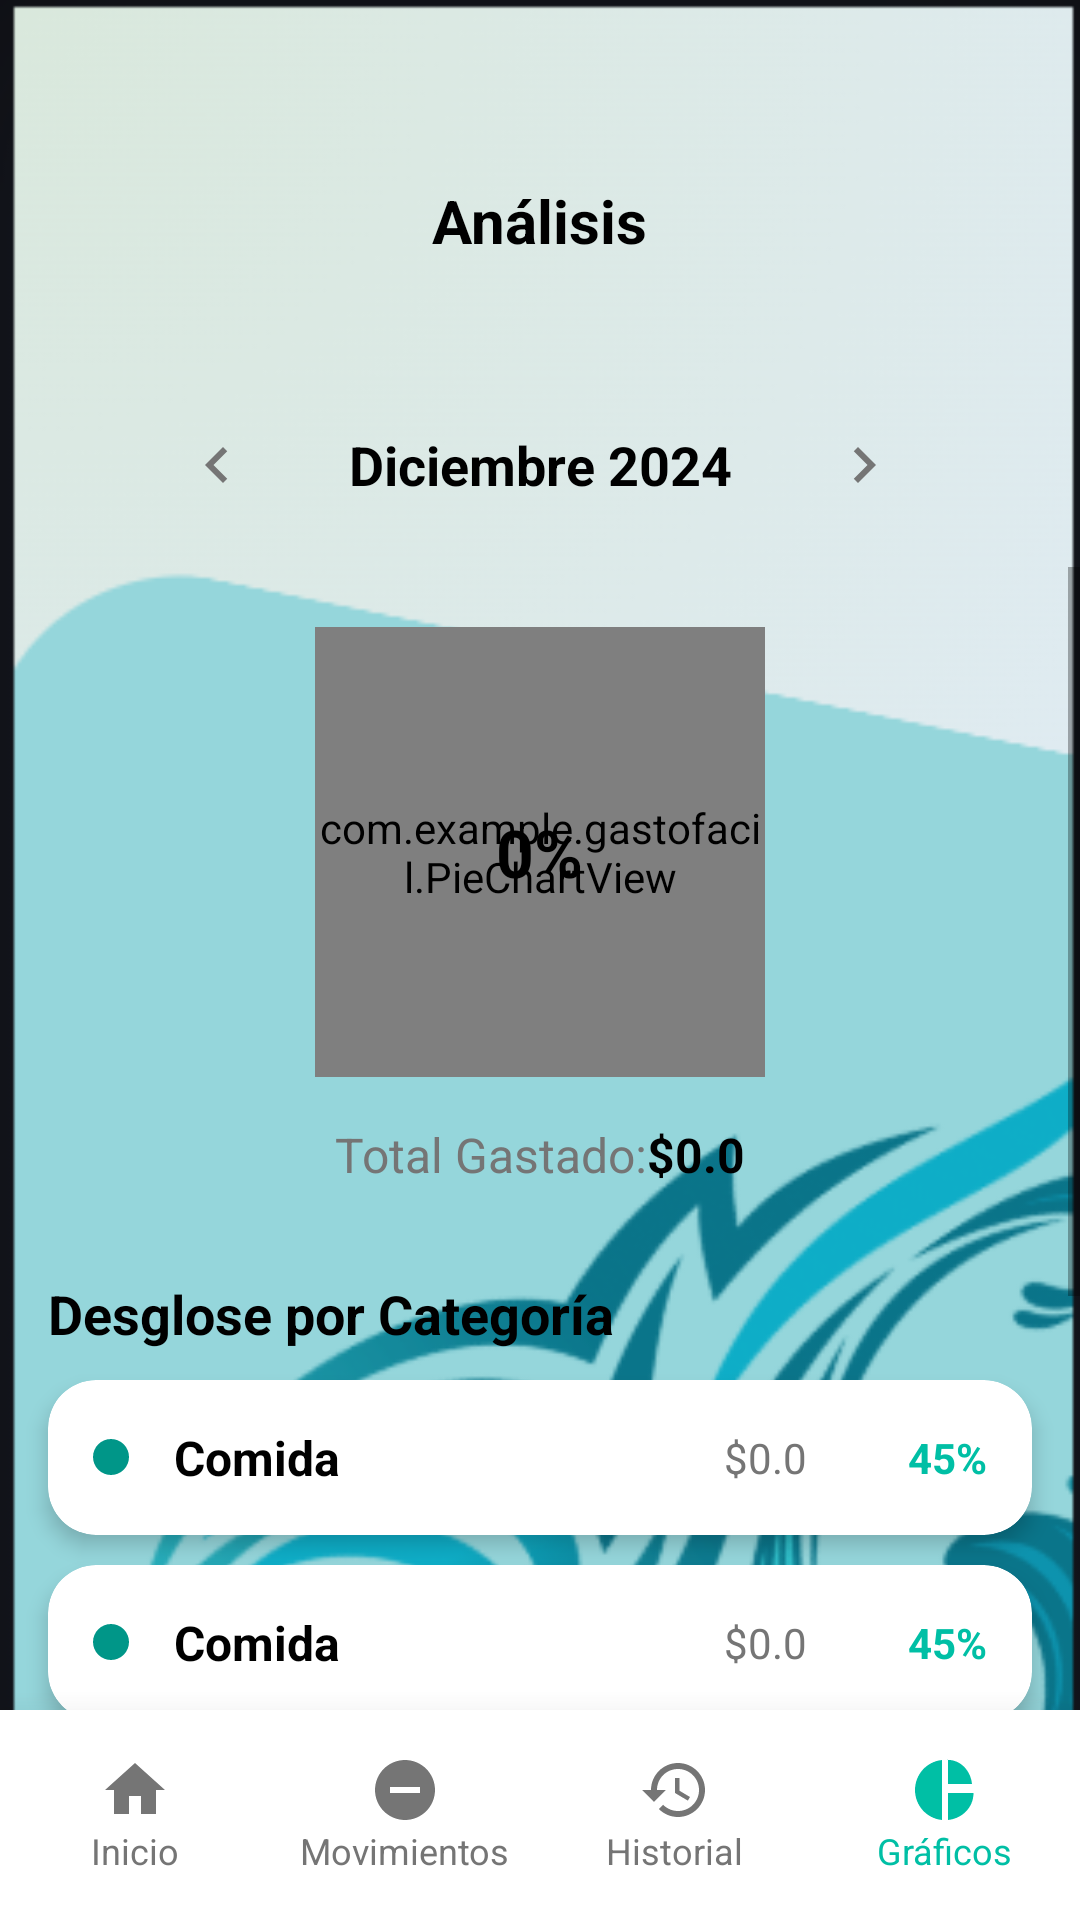

Screen size 1080px×1920px. Icon name, then its center in pixels as [x,y]:
Mes anterior: [216,465]
Mes siguiente: [865,465]
minus circle: [405,1790]
